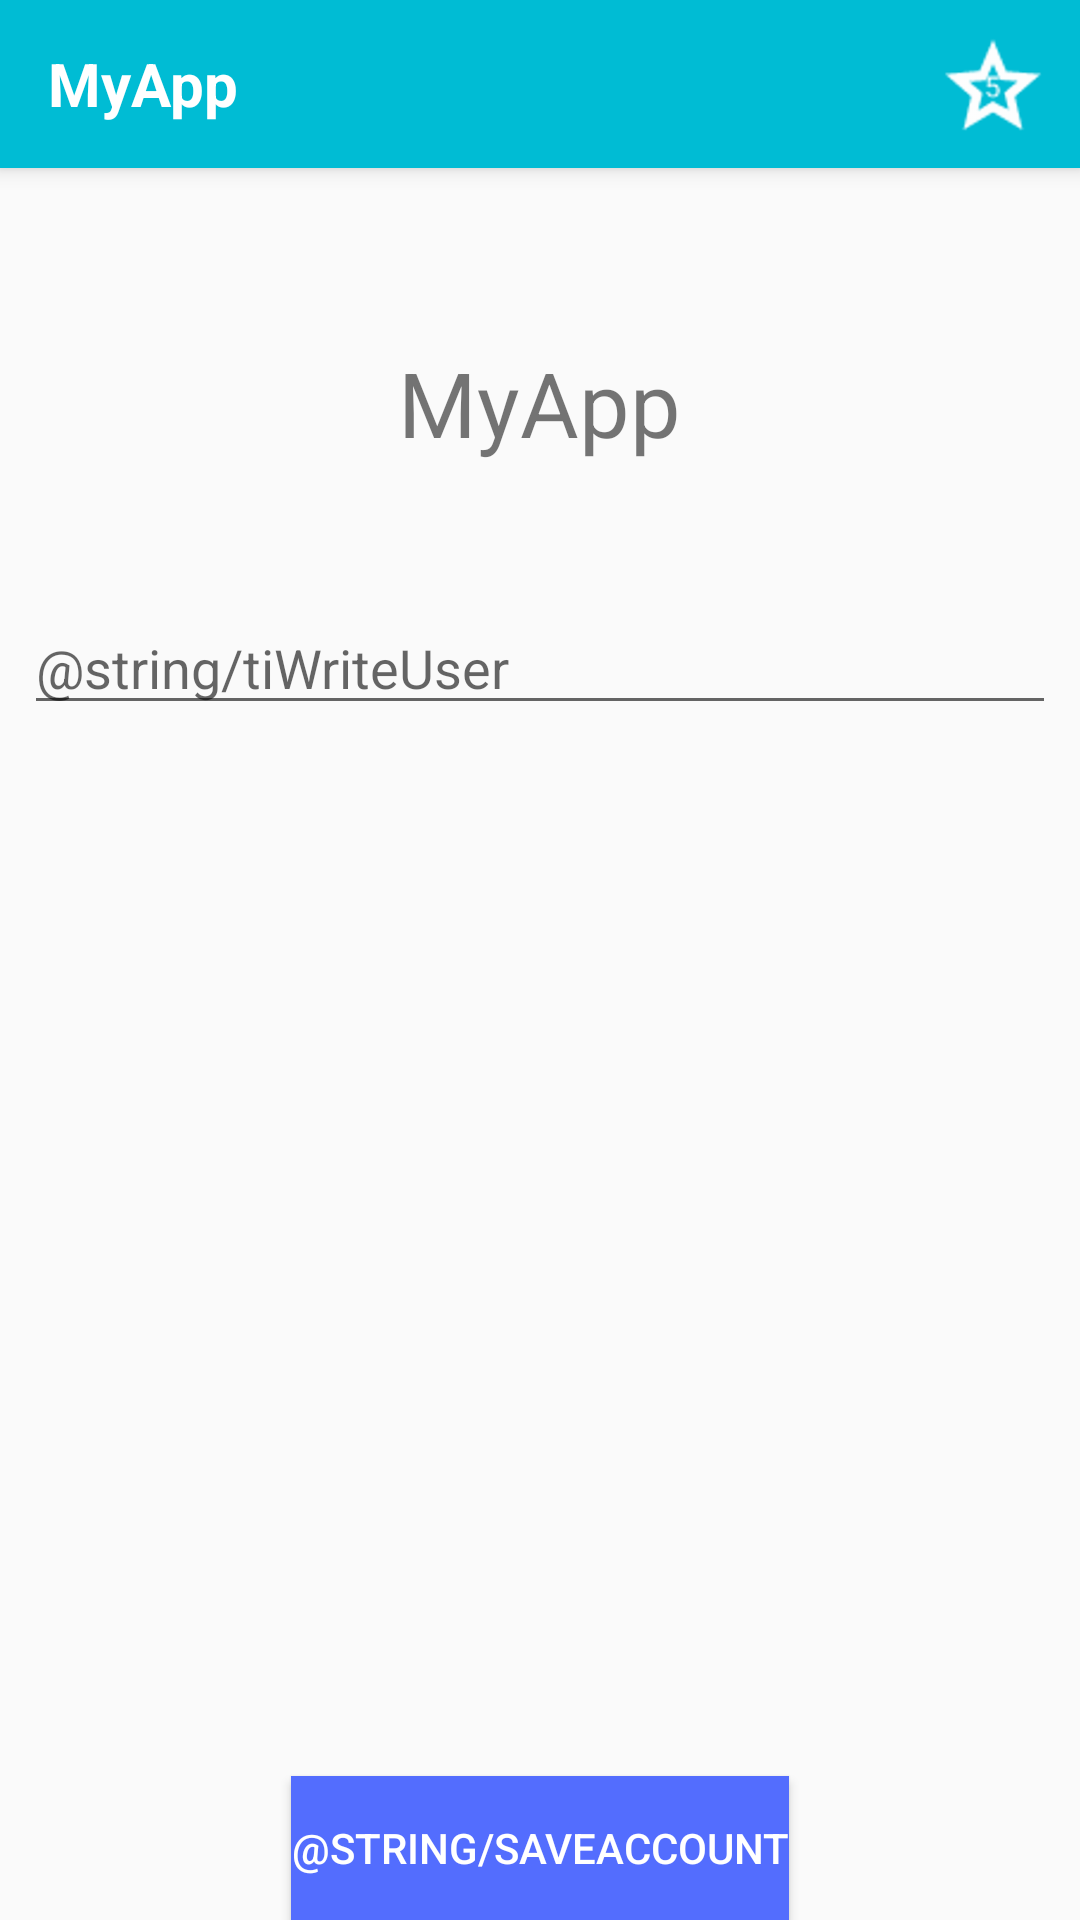

Screen size 1080w x 1920h. Icon name, then its box in pixels as (x1, y1, x2, y2):
star: (945, 40, 1041, 130)
